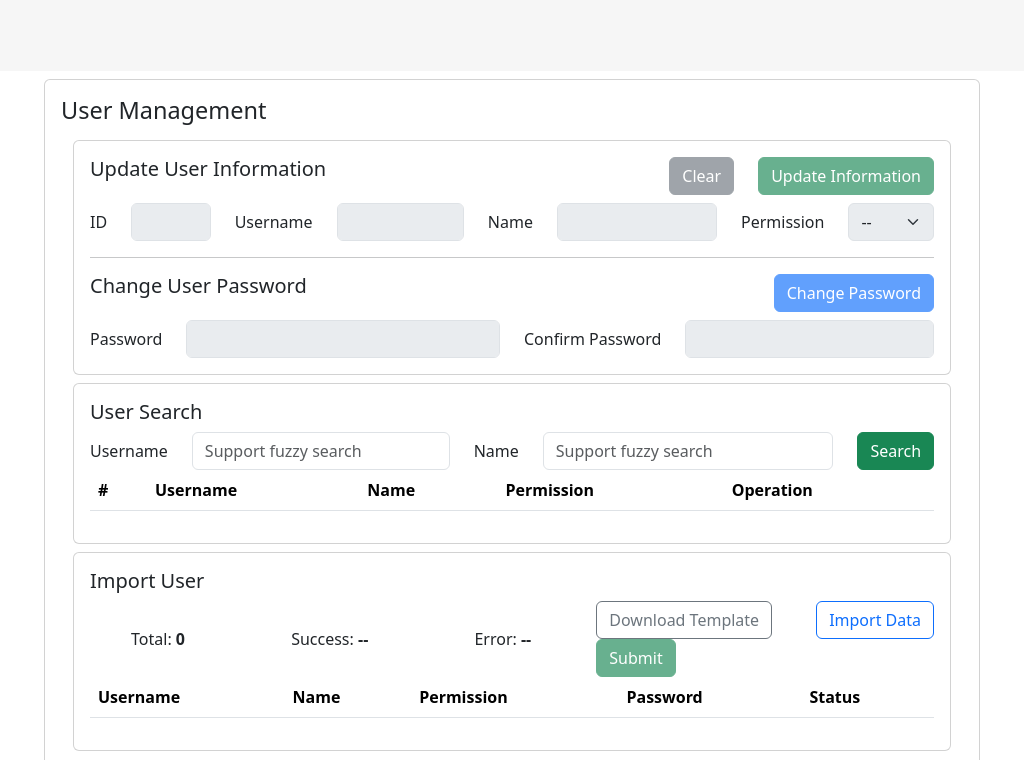
it: UserManage Component › handles user search
(page scrolled)
Type "user" into the search field labelled "Username" at (321, 451), box [192, 432, 450, 470]
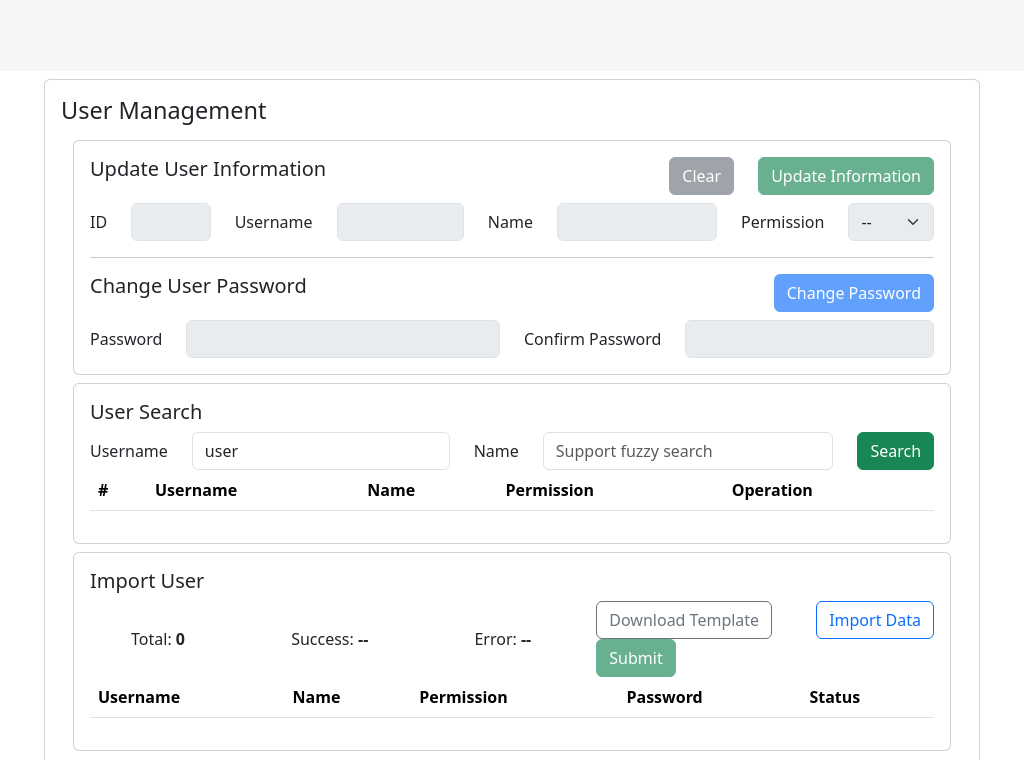
Type "User" into the search field labelled "Name" at (688, 451), box [543, 432, 833, 470]
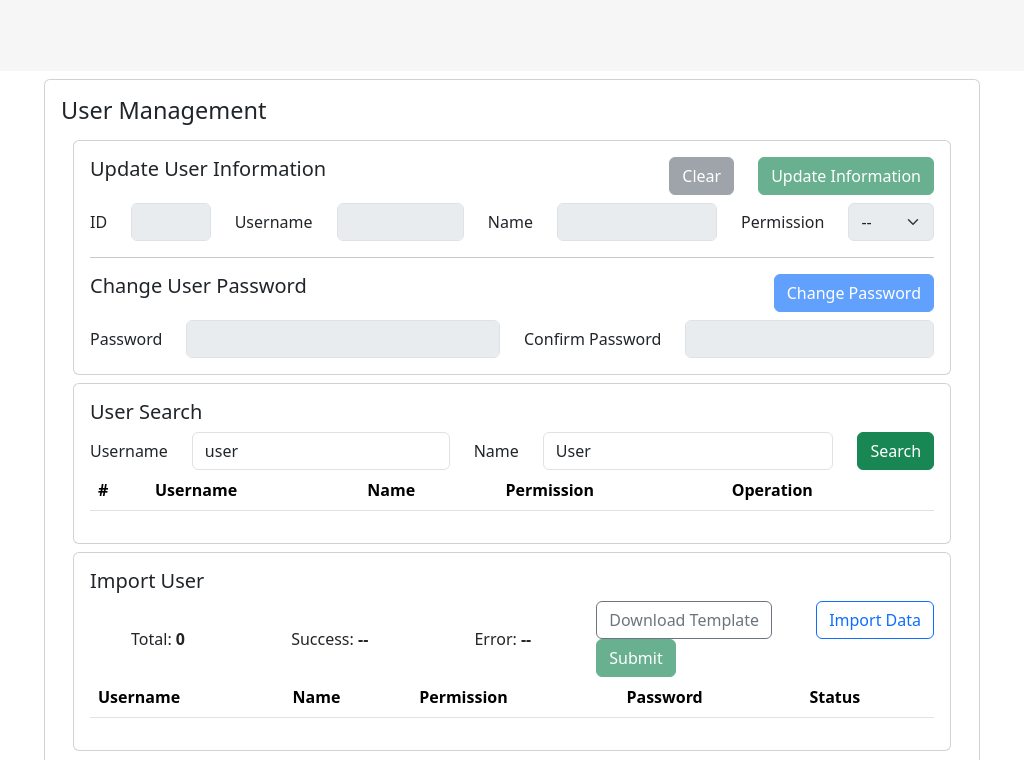
Click the button "Search" at (896, 451), box [857, 432, 934, 470]
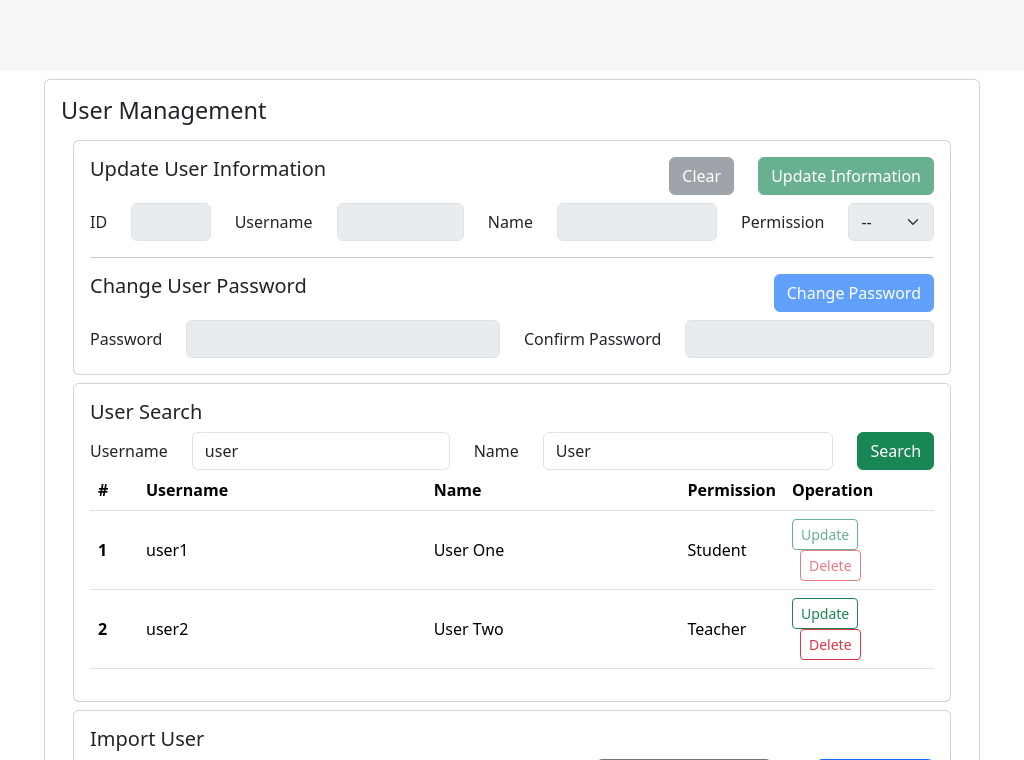
Check: the text "User One" is shown, box [426, 511, 680, 590]
Check: the text "User Two" is shown, box [426, 590, 680, 669]
